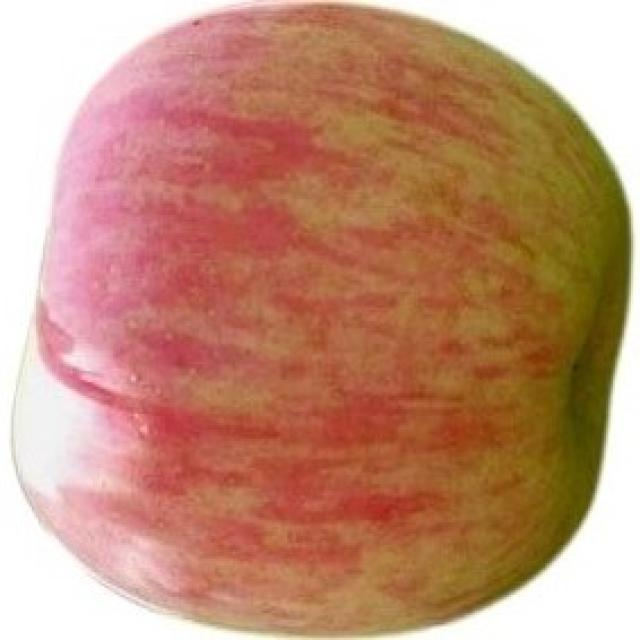75-_ripeness: (29, 2, 622, 635)
